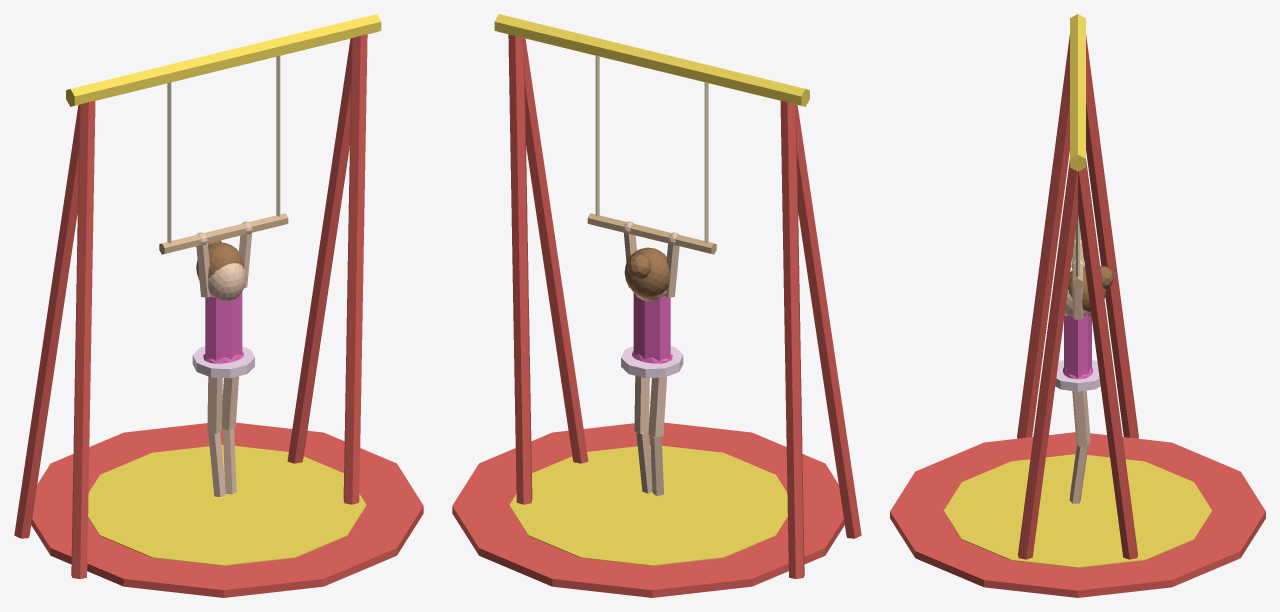
Rendered from trapez.glb.
The picture shows the model from 3 angles, left to right: view 1: azimuth 30°, elevation 25°; view 2: azimuth 150°, elevation 25°; view 3: azimuth 270°, elevation 25°; orthographic projection. The views are drawn at different scales.
Visible parts, largest first — view 1: rot_8, gelb_9, rot_1, rot_3, rot_0, rot_2, gelb_4, trikot_17, holz_hell_7, trikot_rock_19, haut_14, haut_20 (+7 smaller); view 2: rot_8, gelb_9, rot_0, rot_2, rot_1, rot_3, gelb_4, trikot_17, holz_hell_7, haar_15, trikot_rock_19, haut_20 (+5 smaller); view 3: rot_8, gelb_9, rot_2, rot_3, rot_1, rot_0, gelb_4, trikot_17, haut_23, trikot_rock_19, haut_24.
Part boxes in pixels (x1,y1,x2,y2): rot_8: (31,422,423,597); gelb_9: (88,444,366,565); rot_1: (71,100,95,578); rot_3: (343,34,367,504); rot_0: (14,104,80,538); rot_2: (287,38,352,463); gelb_4: (66,14,381,106); trikot_17: (205,292,242,361); holz_hell_7: (159,213,288,254); trikot_rock_19: (192,346,254,378); haut_14: (208,263,245,301); haut_20: (207,376,222,433); rot_8: (452,422,844,597); gelb_9: (509,445,787,565); rot_0: (780,100,804,578); rot_2: (508,34,532,504); rot_1: (795,104,861,538); rot_3: (523,38,588,463); gelb_4: (494,14,809,106); trikot_17: (633,292,670,361); holz_hell_7: (587,213,716,254); haar_15: (624,247,670,297); trikot_rock_19: (621,346,683,378); haut_20: (648,377,666,437); rot_8: (890,432,1265,597); gelb_9: (943,454,1212,567); rot_2: (1078,159,1137,559); rot_3: (1018,159,1077,559); rot_1: (1017,35,1069,438); rot_0: (1086,35,1138,438); gelb_4: (1070,14,1085,171); trikot_17: (1064,315,1091,377); haut_23: (1072,390,1090,446); trikot_rock_19: (1055,360,1100,391); haut_24: (1069,445,1088,503).
Size of the model in its own units: 1.43 by 1.82 by 1.4.
